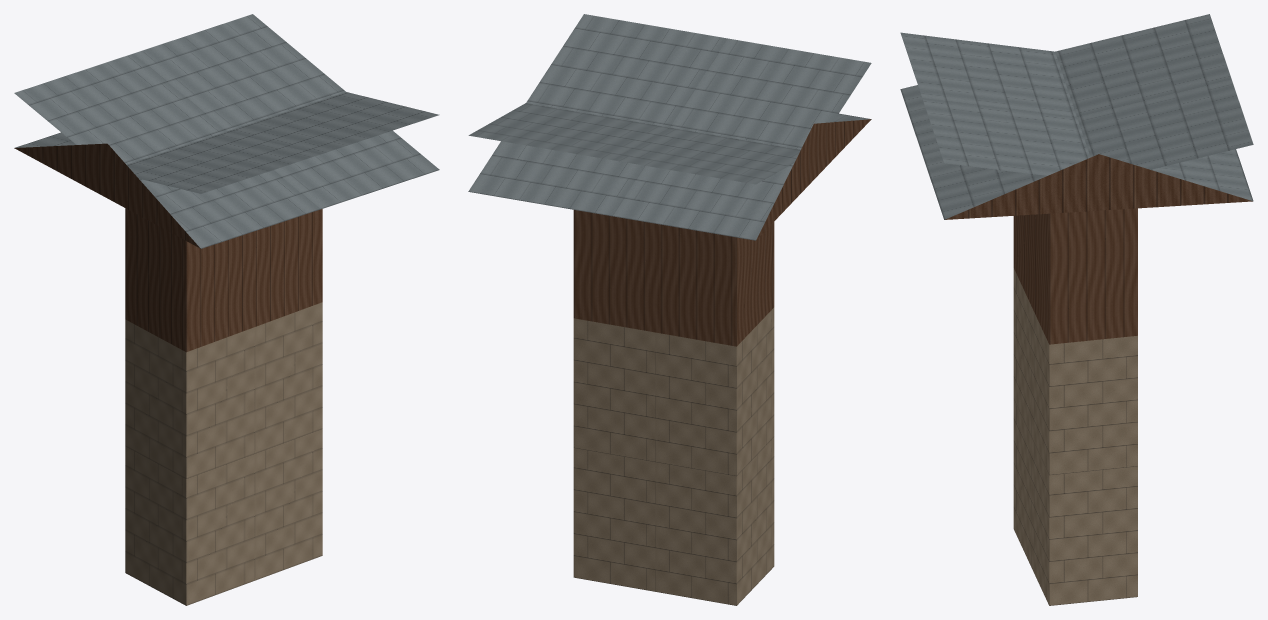
File: bld_c36_-27_437.gltf
3 views of the same model, side by side, from view 1: azimuth 30°, elevation 25°; view 2: azimuth 150°, elevation 25°; view 3: azimuth 270°, elevation 25° (orthographic). The views are drawn at different scales.
Visible parts, largest first — view 1: bld_c36_-27_437; view 2: bld_c36_-27_437; view 3: bld_c36_-27_437.
Boxes of the visible parts, box(x1,y1,x2,y2) form: bld_c36_-27_437: box(14, 14, 439, 605); bld_c36_-27_437: box(468, 14, 871, 605); bld_c36_-27_437: box(900, 14, 1253, 605).
Bounding box in the file's own units: 5.65 × 8.4 × 5.65.
Materials: 4 (4 with a texture image).
